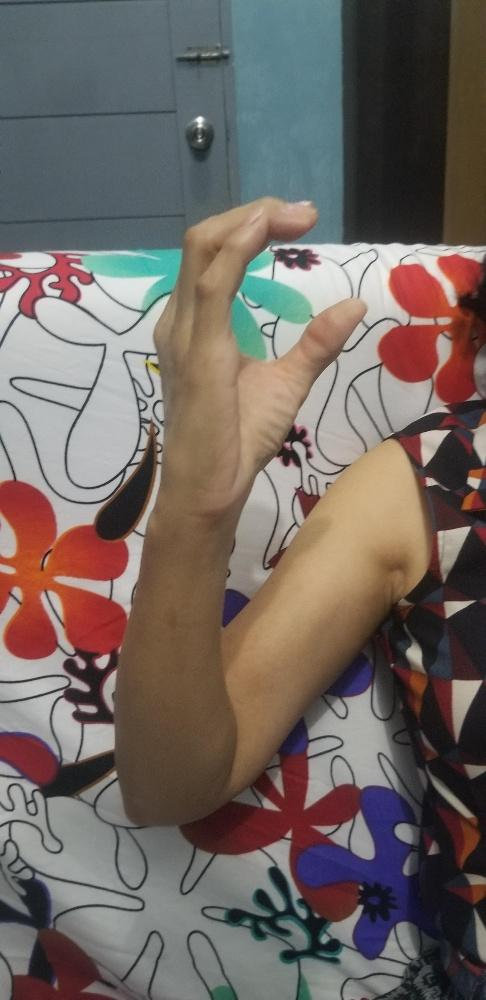c: (150, 192, 370, 513)
